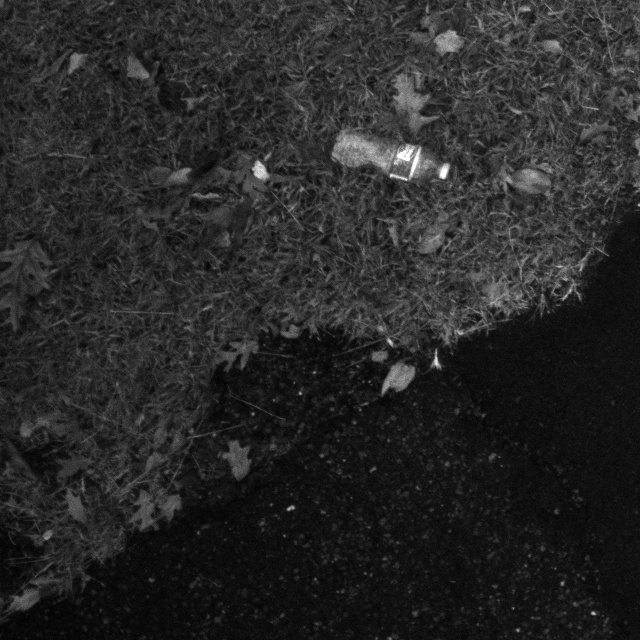bottle: (319, 117, 467, 194)
